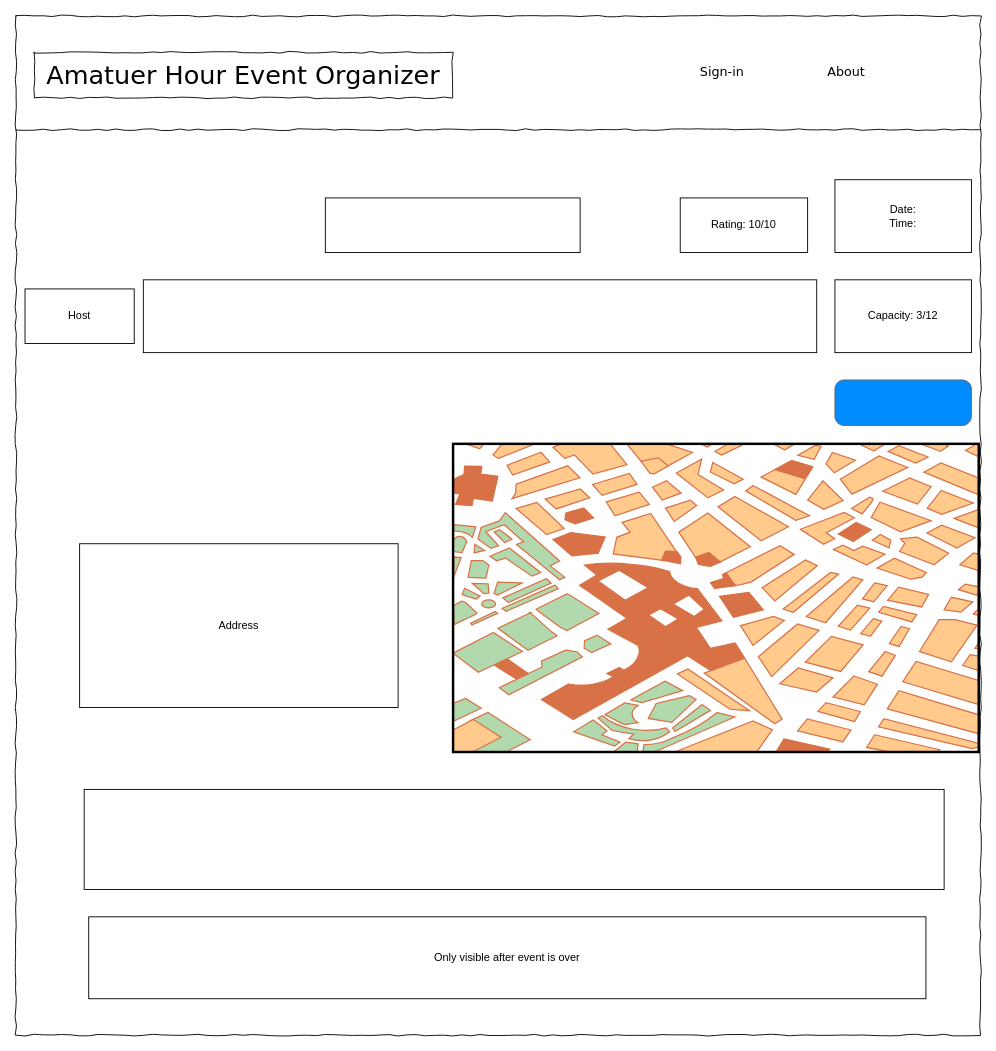
The diagram is 996 pixels wide and 1051 high, and some of its shapes have lost their labels. Each missing label, with the box of its shape:
Description:: (142, 279, 817, 353)
Event Title: Super Awesome Book Club: (324, 197, 580, 253)
Join Event: (834, 379, 971, 425)
Reviews: (83, 789, 944, 890)
